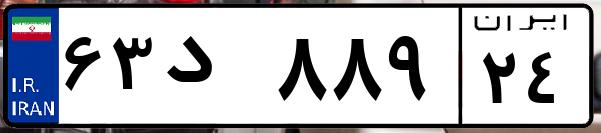2: (475, 38, 525, 113)
3: (110, 28, 158, 98)
4: (525, 38, 570, 115)
6: (57, 26, 110, 100)
8: (270, 28, 330, 110), (330, 28, 385, 110)
9: (385, 28, 445, 110)
د: (158, 20, 270, 120)
